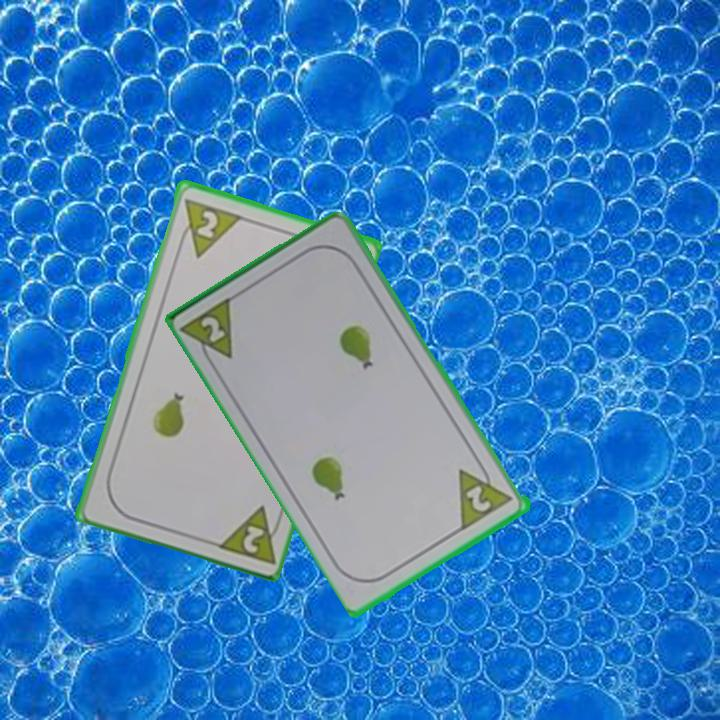2p: (211, 500, 285, 566), (173, 194, 243, 260), (462, 482, 495, 516), (198, 312, 229, 346)
